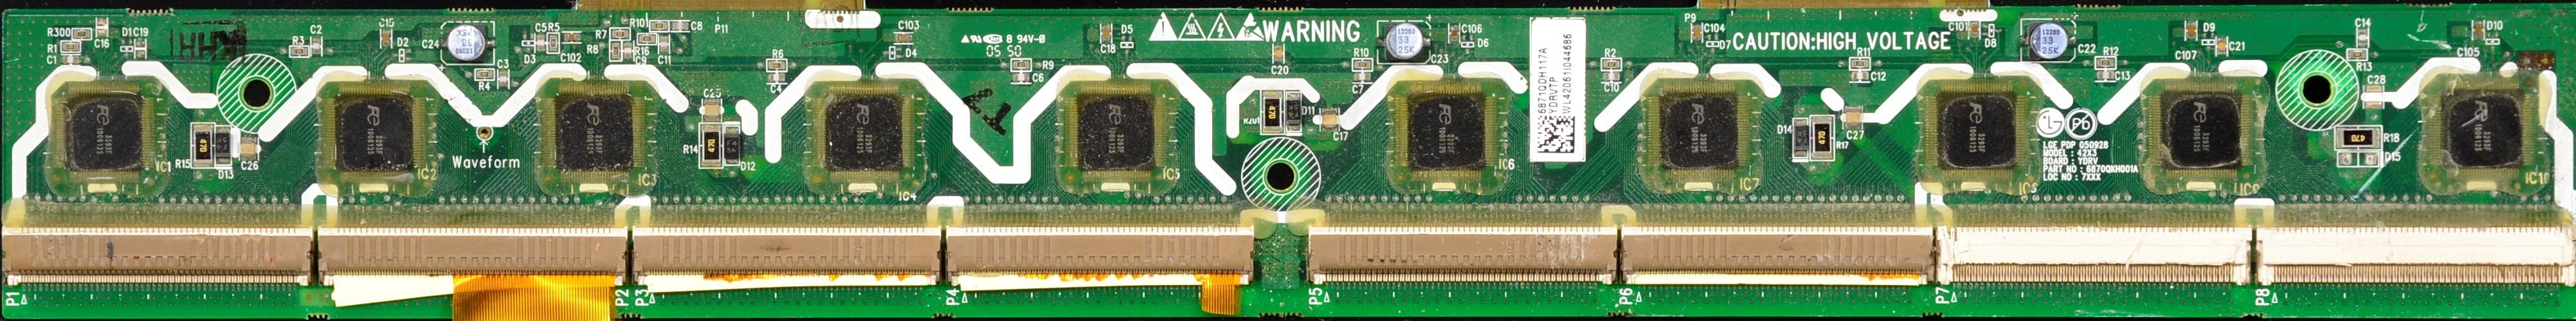Capacitor: (439, 16, 496, 59), (1378, 15, 1429, 63), (2024, 23, 2073, 66), (1318, 100, 1345, 142), (1842, 105, 1871, 142), (238, 132, 266, 168), (698, 94, 728, 125), (2362, 82, 2392, 112), (1267, 41, 1295, 71), (1096, 21, 1120, 51), (376, 23, 399, 53), (53, 53, 89, 71), (1963, 18, 1986, 46), (1004, 71, 1046, 86), (890, 26, 925, 44), (1446, 16, 1465, 48), (2182, 21, 2206, 46), (493, 64, 516, 91), (1687, 20, 1710, 46), (307, 30, 330, 56), (669, 16, 701, 35), (2353, 21, 2376, 46), (2469, 20, 2489, 48), (1347, 69, 1377, 87), (562, 28, 590, 46), (657, 33, 674, 63), (532, 28, 550, 54), (1851, 69, 1879, 86), (767, 71, 795, 87), (2095, 71, 2121, 87), (2216, 35, 2234, 58), (1600, 71, 1623, 87), (619, 40, 636, 63), (97, 18, 108, 38)
IC: (1046, 79, 1224, 202), (2422, 77, 2568, 202), (1377, 77, 1520, 186), (1916, 72, 2045, 189), (800, 81, 936, 189), (1640, 82, 1766, 198), (529, 82, 649, 191), (322, 89, 437, 184), (2149, 87, 2264, 174), (64, 95, 145, 173)
Resistor: (697, 123, 726, 174), (2339, 125, 2392, 151), (191, 123, 215, 174), (2091, 51, 2131, 74), (471, 64, 501, 86), (762, 56, 797, 74), (1009, 56, 1040, 74), (59, 40, 92, 56), (606, 23, 632, 43), (287, 43, 314, 61), (1349, 58, 1377, 74), (606, 41, 628, 63), (649, 18, 674, 35), (545, 30, 560, 56), (637, 33, 662, 48), (2346, 49, 2372, 63), (72, 30, 92, 41)
